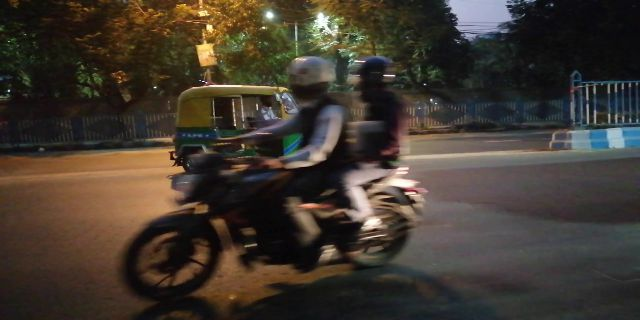Motorbike: (112, 62, 423, 297)
